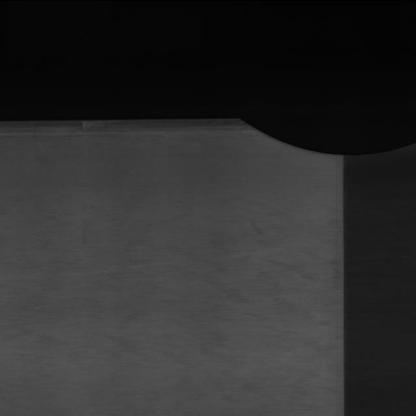welding_line: (322, 139, 366, 414)
